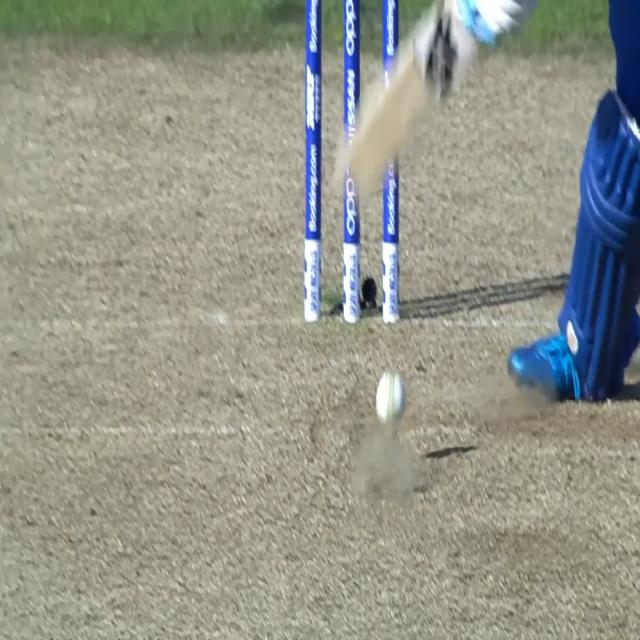ball: (365, 354, 417, 424)
